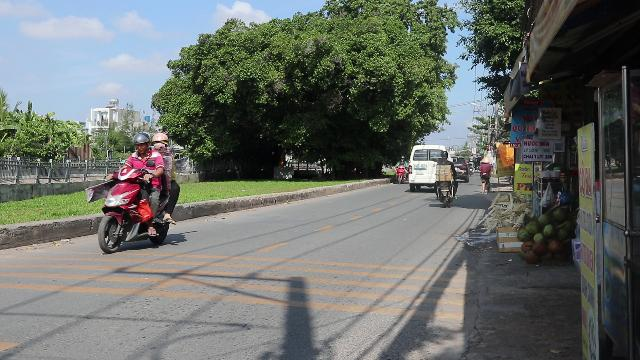helmet: (131, 131, 151, 155), (151, 132, 169, 152)
motorcyclist: (86, 130, 180, 253)
